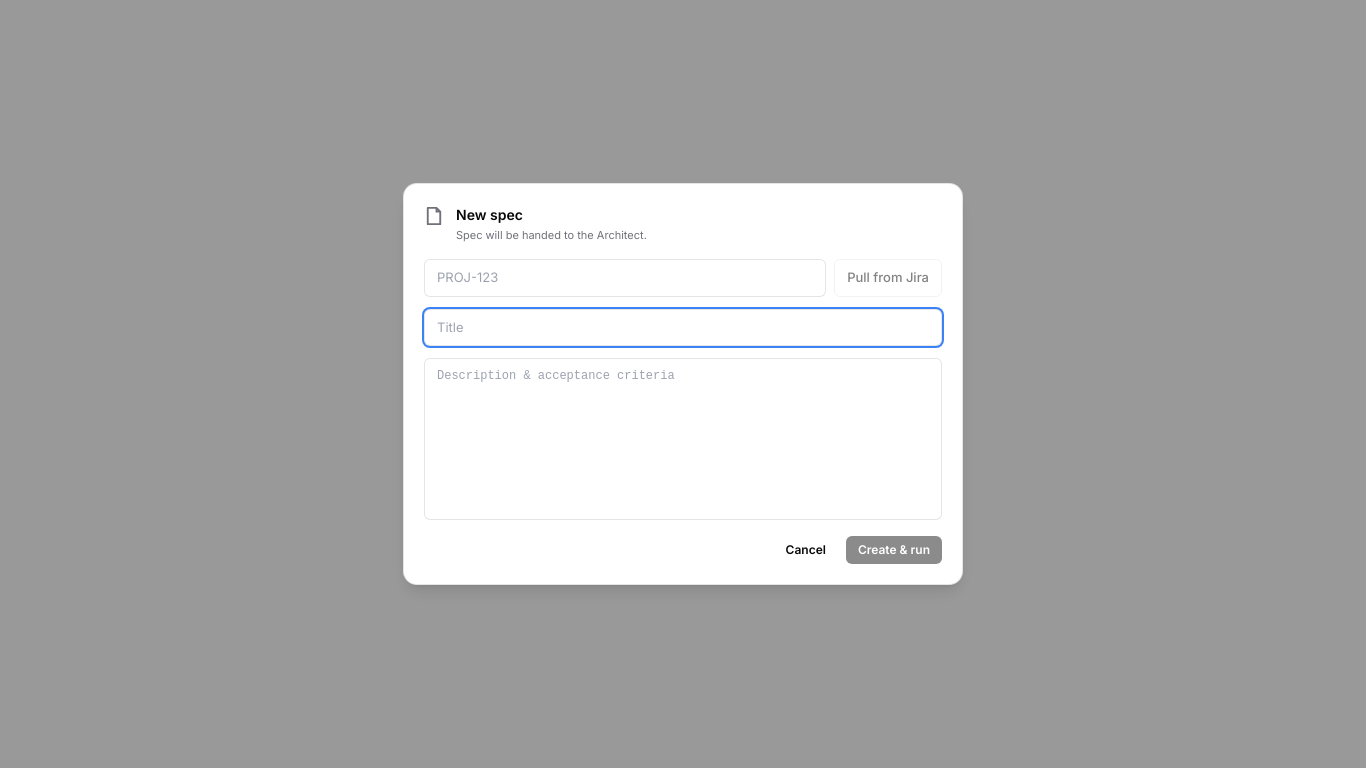
Test: SpecDialog › jira-pull row › populates title and body on successful pull
Type "PROJ-1" into the field with test id "spec-dialog-jira-key-input" at x=625, y=278, box [424,259,826,297]
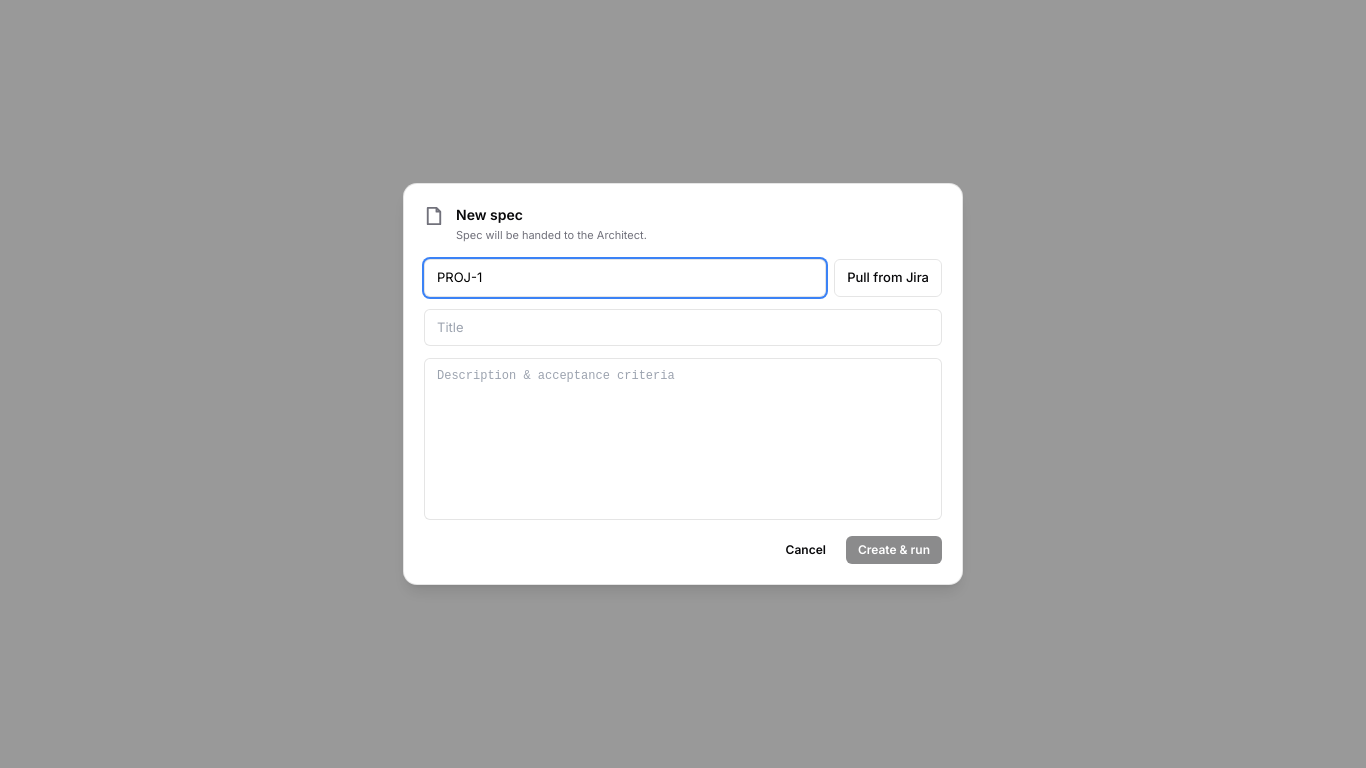
Click the button with test id "spec-dialog-jira-pull-button" at x=888, y=278, box [834,259,942,297]
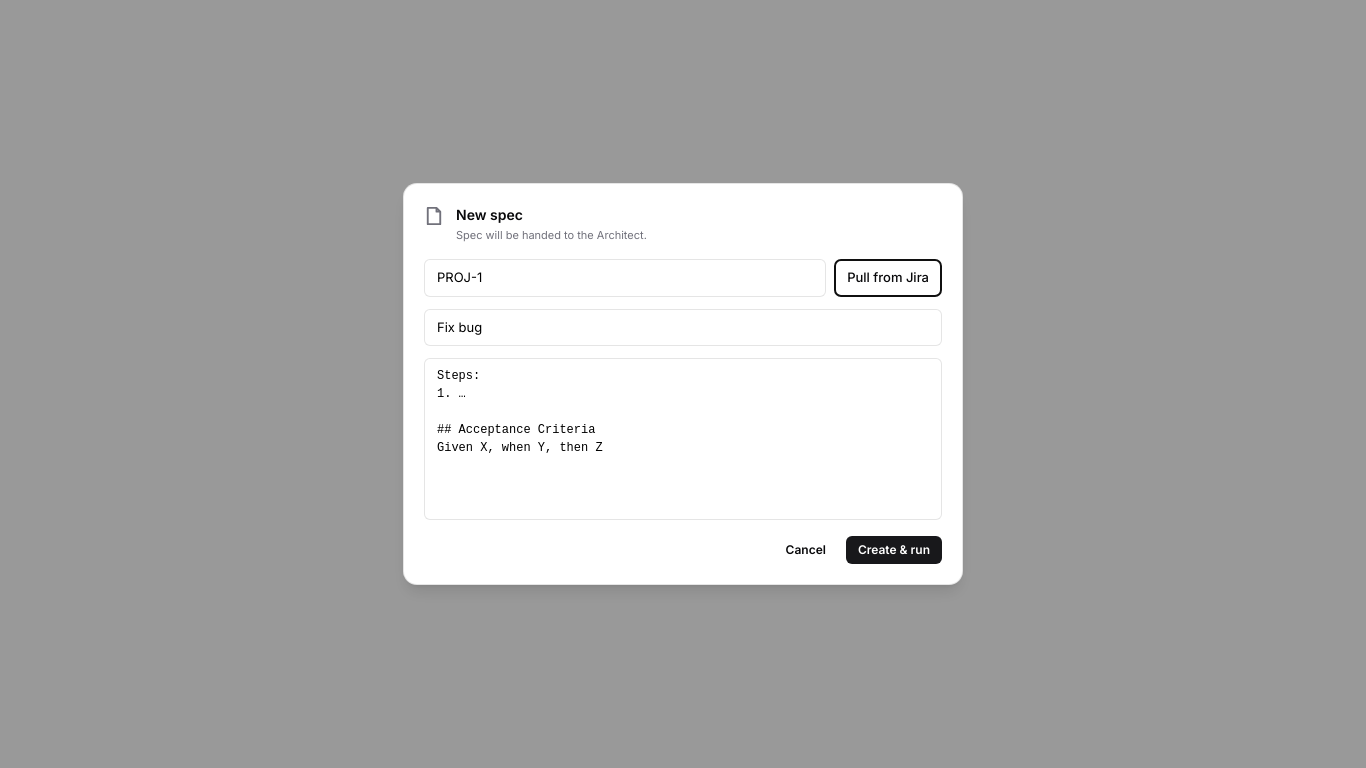
Expected: the field with test id "spec-dialog-title-input" holds "Fix bug", [424,309,942,346]
